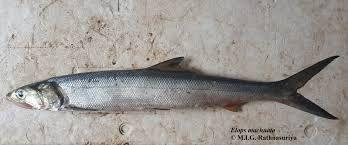Tenpounder: (11, 49, 346, 122)
